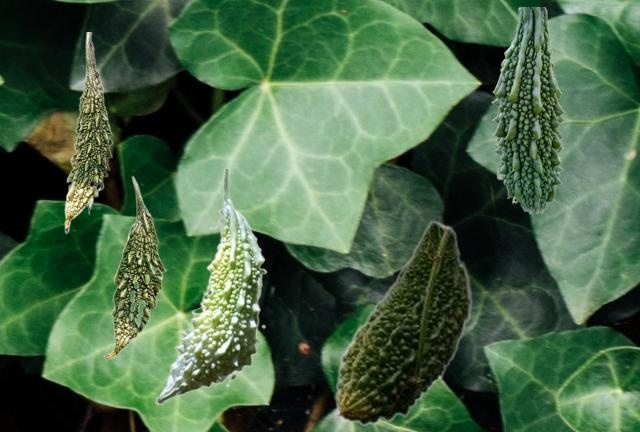ampalaya: (334, 220, 472, 425), (155, 169, 266, 404), (491, 7, 563, 212), (103, 175, 165, 358), (64, 32, 112, 233)
